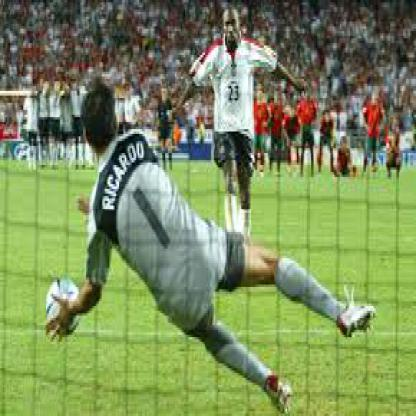goal: (7, 49, 159, 369)
